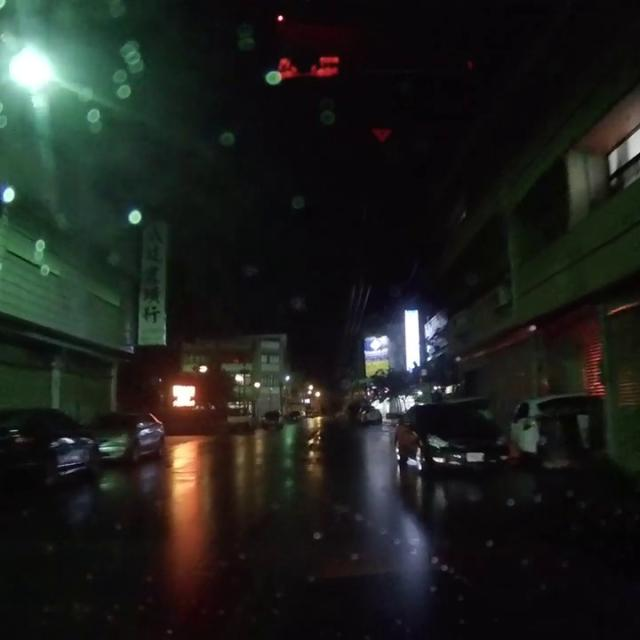Car: (391, 400, 505, 475), (0, 404, 101, 486), (90, 408, 164, 463), (353, 402, 383, 424), (258, 407, 283, 428), (286, 408, 301, 418)
